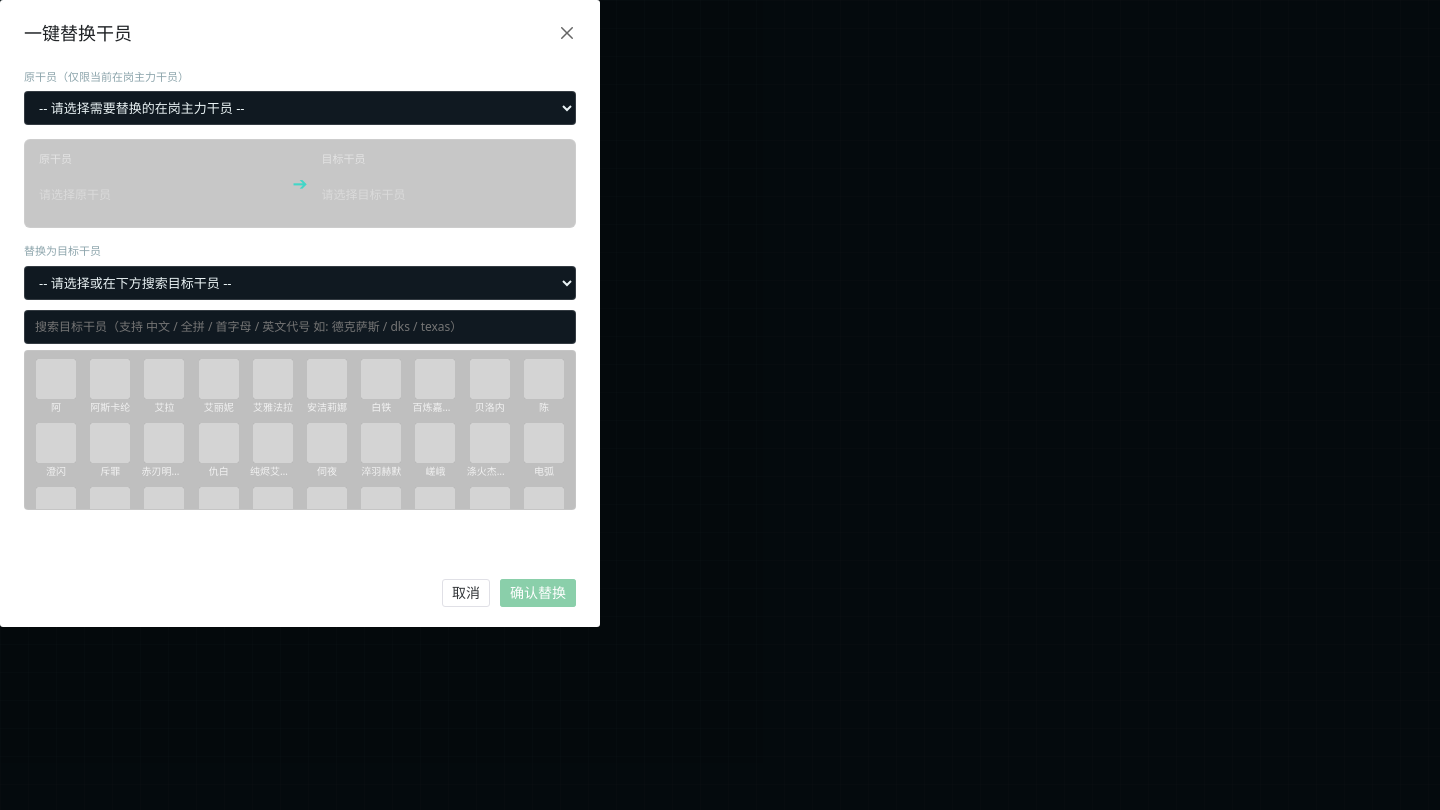
GlobalReplaceModal.vue › Impact Summary and Explicit Source ➔ Target Display › computes exact impact counts across main slots, replacement entries, and conf policies
// Select source operator
Step 1. Select "阿米娅 (B101 (制造站), B201 (制造站))" in the dropdown with test id "source-select" → point(300, 108), box [24, 91, 576, 125]
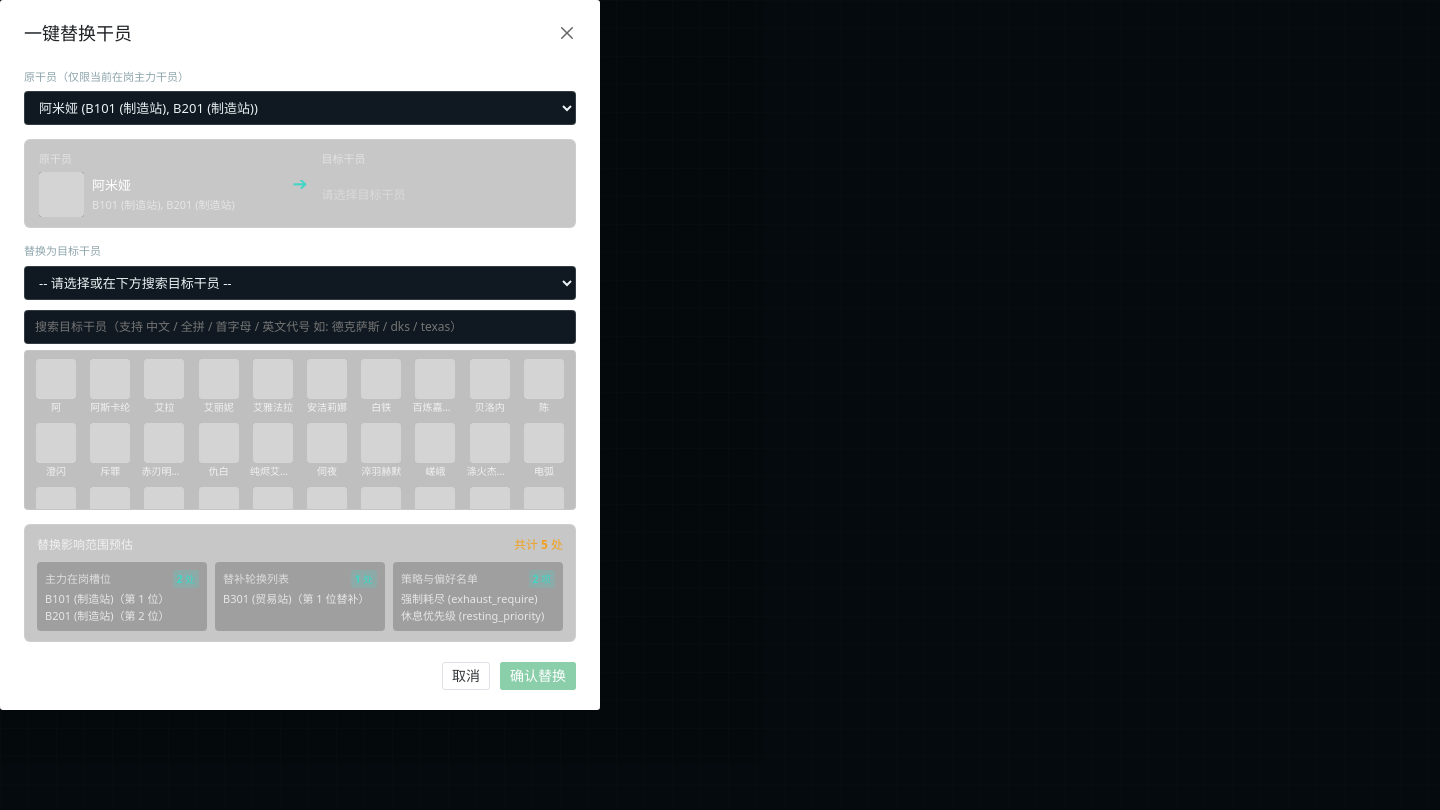
Result: the element with test id "source-display" shows "阿米娅" at [92, 176, 131, 194]
Result: the element with test id "impact-summary" is shown at [24, 524, 576, 642]
Result: the text with test id "impact-total-count" shows "5" at [514, 536, 563, 553]
